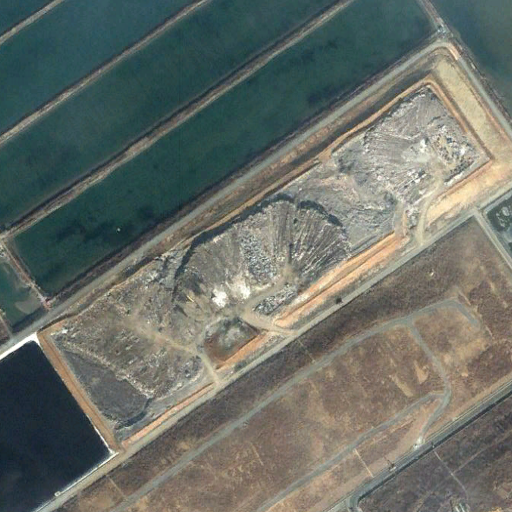lf: (36, 46, 512, 451)
